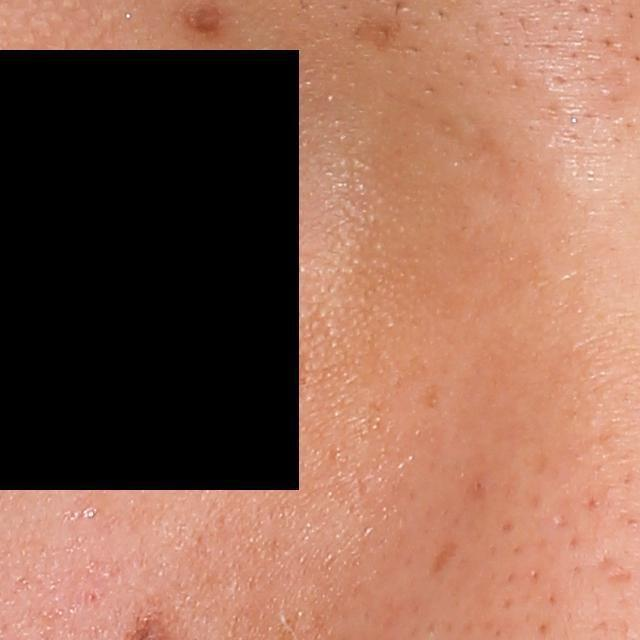melasma: (271, 346, 317, 391), (354, 15, 403, 56), (429, 538, 460, 577), (423, 381, 441, 409)
nevus: (175, 2, 232, 42)
